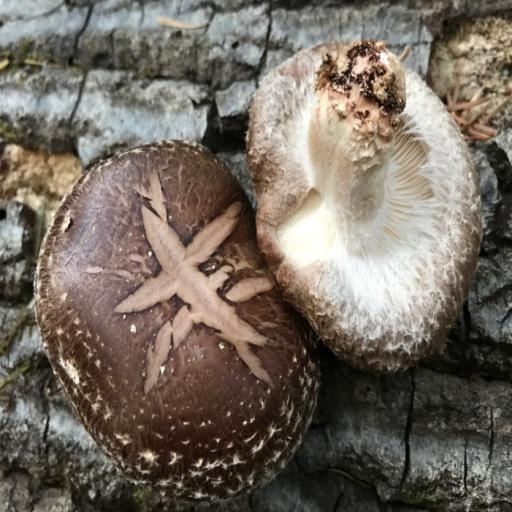Shiitake Mushroom: (0, 6, 512, 512)
